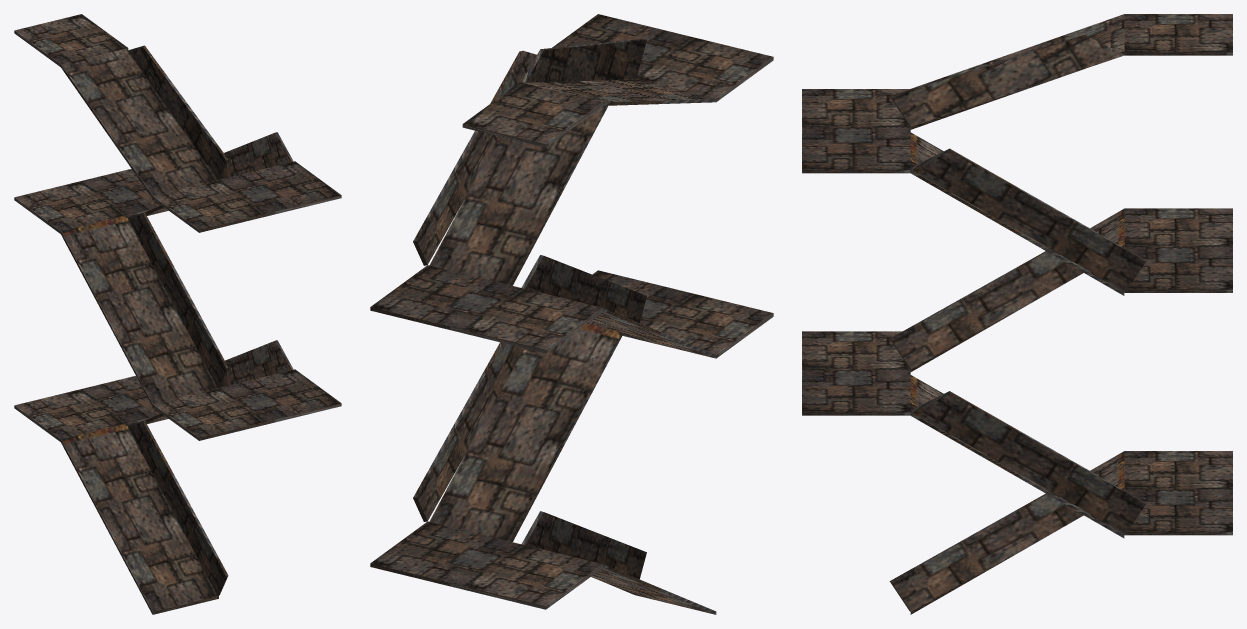
The model's file is Stair_Case.fbx.
The picture shows the model from 3 angles, left to right: view 1: azimuth 30°, elevation 25°; view 2: azimuth 150°, elevation 25°; view 3: azimuth 270°, elevation 25°; orthographic projection. The views are drawn at different scales.
Visible parts, largest first — view 1: Stair_Case; view 2: Stair_Case; view 3: Stair_Case.
Part boxes in pixels (left/top/right/bottom): Stair_Case: left=14, top=14, right=341, bottom=614; Stair_Case: left=370, top=14, right=773, bottom=614; Stair_Case: left=802, top=14, right=1232, bottom=614.
Bounding box in the file's own units: 4.31 × 14.11 × 9.5.
